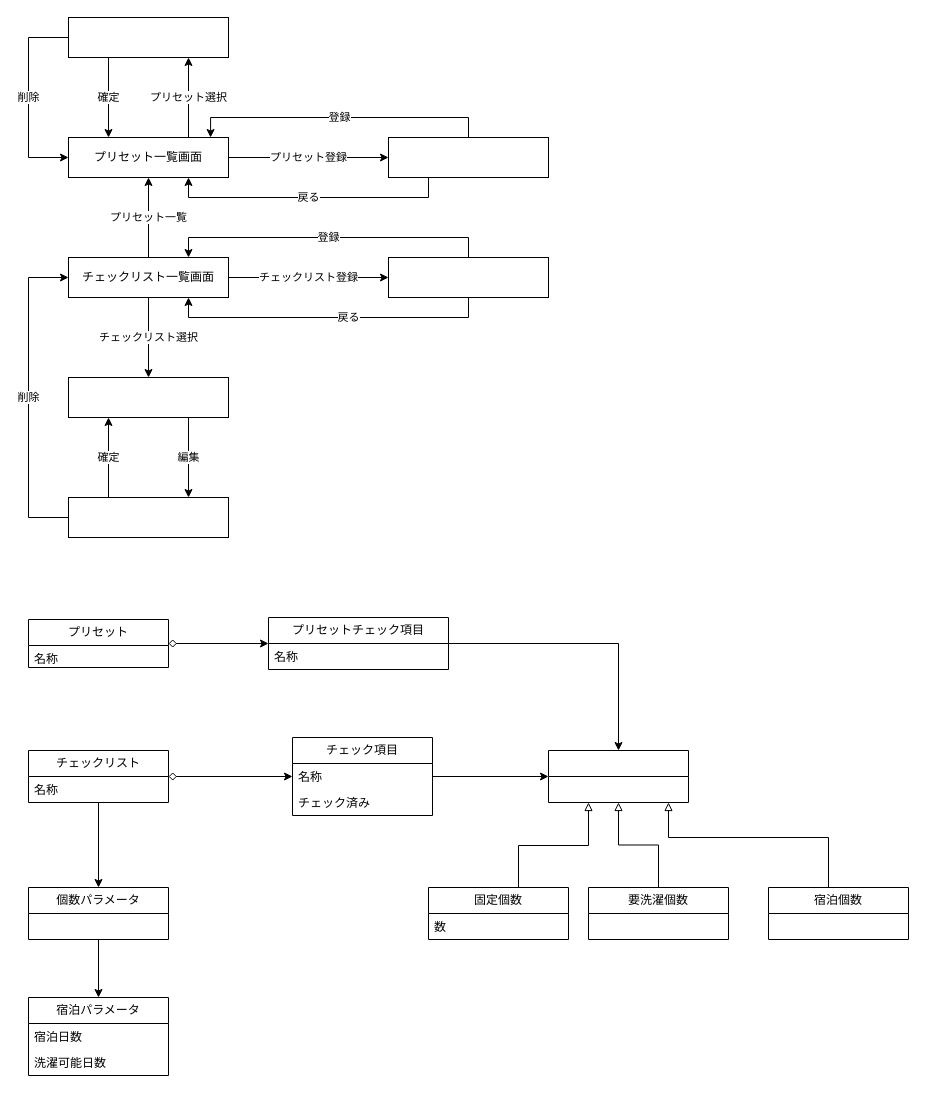
Image size: 926x1096. Some labels were removed from this diagram. The shapes that lost their labels are listed below. From the top down, each one's centre as x and y in pixels, then its label:
At pixel 148 37: "プリセット編集画面".
At pixel 468 157: "プリセット登録画面".
At pixel 468 277: "チェックリスト登録画面".
At pixel 148 397: "チェックリスト画面".
At pixel 148 517: "チェックリスト編集画面".
At pixel 618 776: "個数".
